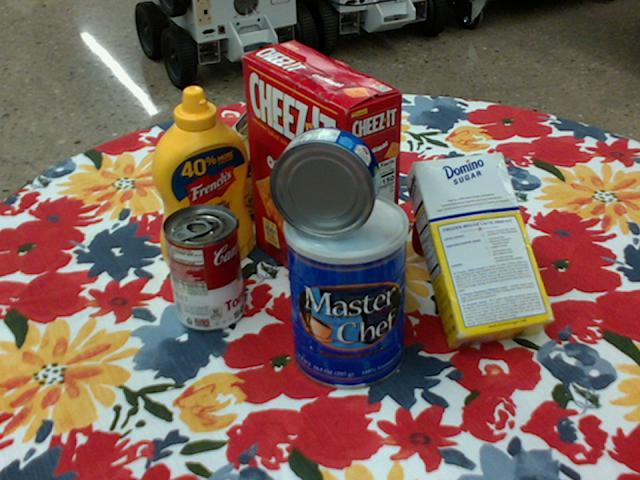cracker_box: (244, 41, 403, 311)
gelatin_box: (291, 128, 370, 207)
large_marker: (231, 83, 283, 139)
master_chef_can: (283, 192, 408, 392)
mug: (409, 158, 501, 265)
mustard_bottle: (151, 86, 254, 275)
potted_meat_can: (205, 126, 300, 228)
sugar_box: (405, 152, 557, 353)
tomato_soup_can: (161, 204, 244, 332)
tuna_fish_can: (270, 126, 382, 238)
